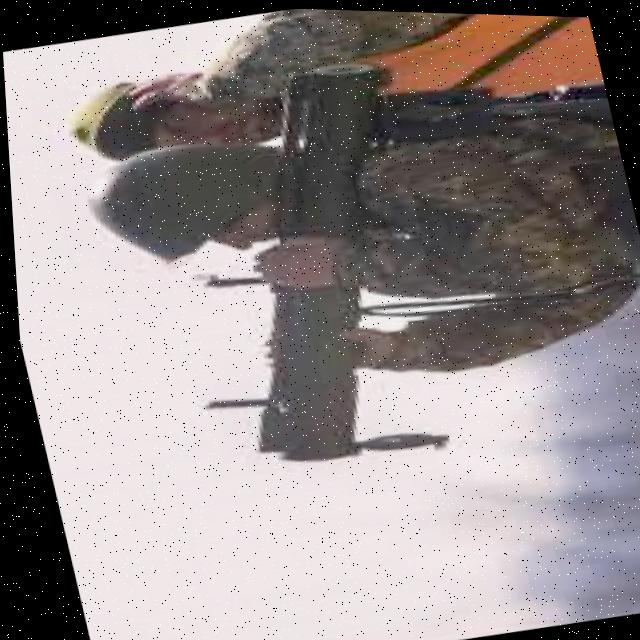rocket: (163, 45, 469, 474)
